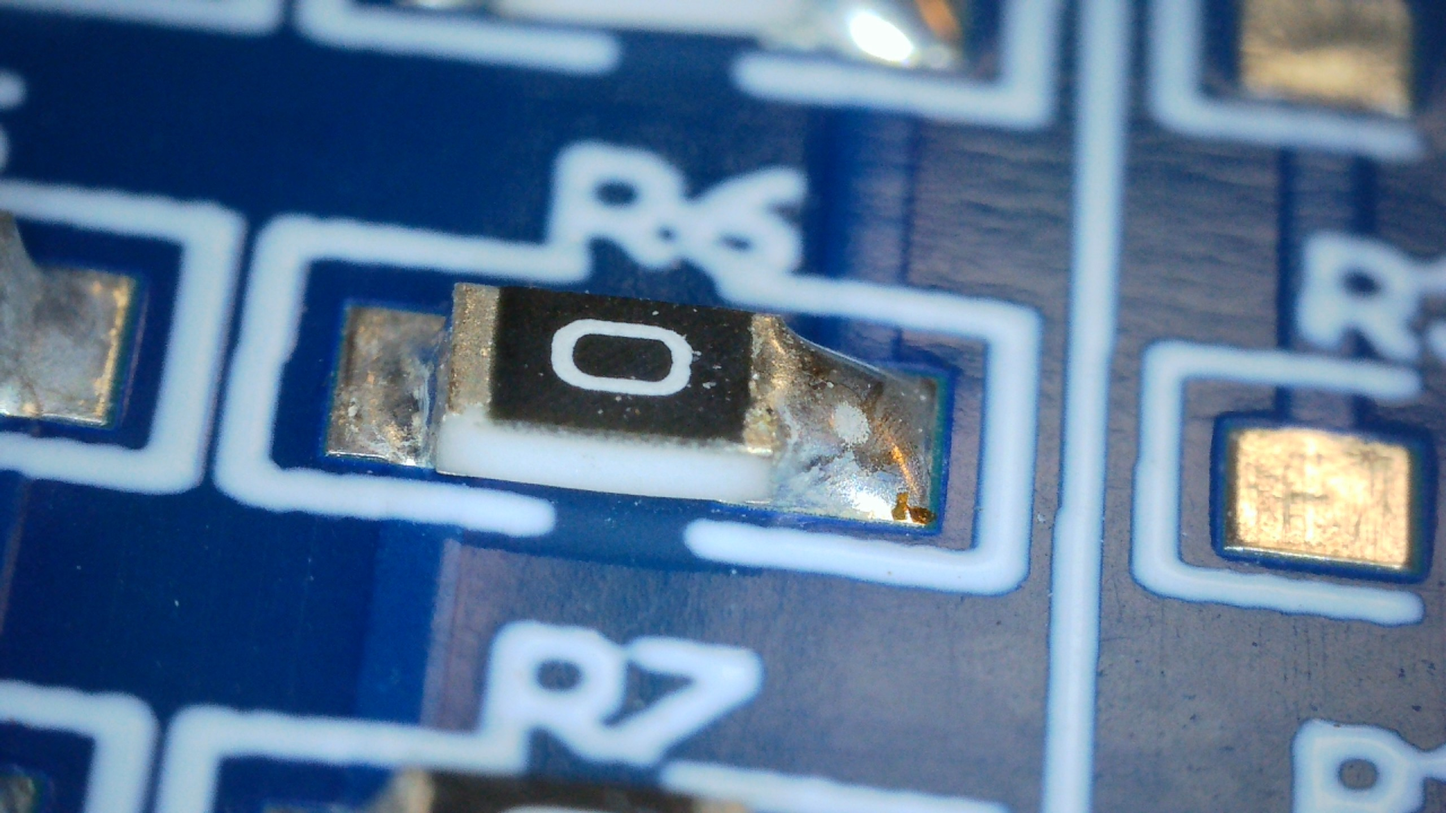NG: (743, 312, 928, 522), (356, 284, 497, 463)
